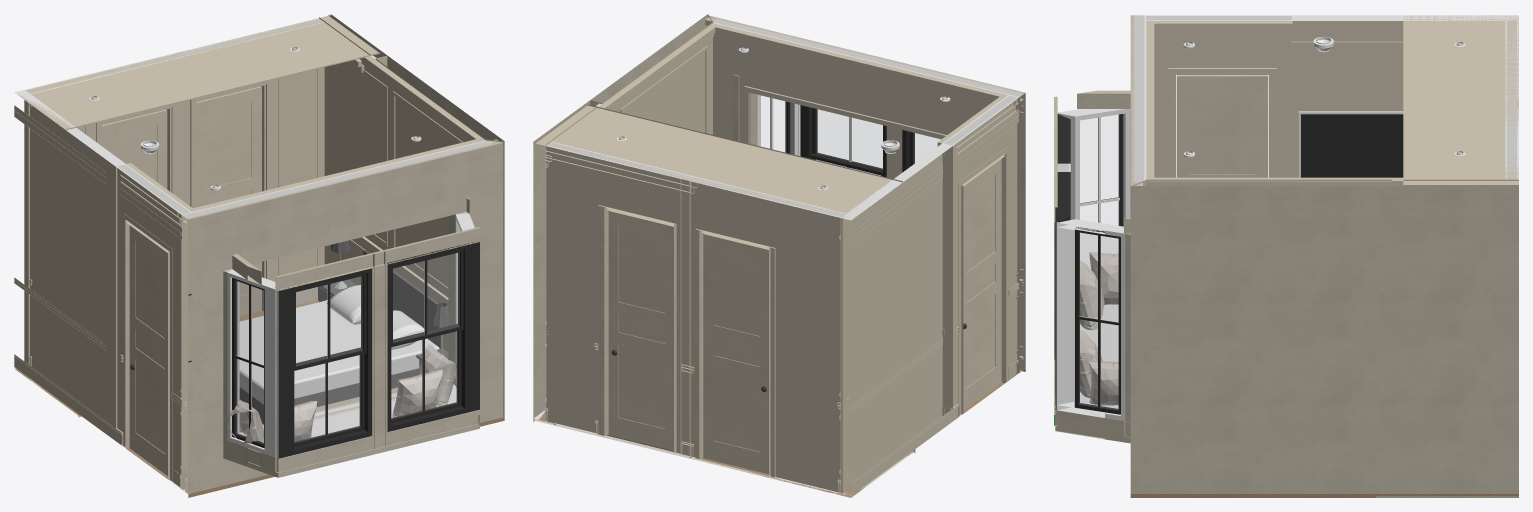
The model's file is loli-bedroom-28a444b4c423.glb.
The picture shows the model from 3 angles, left to right: view 1: azimuth 30°, elevation 25°; view 2: azimuth 150°, elevation 25°; view 3: azimuth 270°, elevation 25°; orthographic projection. The views are drawn at different scales.
Parts seen in each view (by area): view 1: loli-bedroom-93447d0fea18c81b, loli-bedroom-6a1144f4e43410bb, loli-bedroom-fd1c2425c72e98e4, loli-bedroom-4cda501b4aaed82b, loli-bedroom-2575515a05775d9e, loli-bedroom-4be2558270762b51, loli-bedroom-0e637d2be41161fb, loli-bedroom-cf6d22c5317ced0b, loli-bedroom-527014f532f46c8e, loli-bedroom-592bd9af2ed71797, loli-bedroom-eceff908bd344cec, loli-bedroom-75b75731e5e739a5 (+30 smaller); view 2: loli-bedroom-0e637d2be41161fb, loli-bedroom-6a1144f4e43410bb, loli-bedroom-93447d0fea18c81b, loli-bedroom-5b37b110dc0e2cdc, loli-bedroom-eceff908bd344cec, loli-bedroom-2575515a05775d9e, loli-bedroom-68d06b361ac47823, loli-bedroom-cf6d22c5317ced0b, loli-bedroom-592bd9af2ed71797, loli-bedroom-4cda501b4aaed82b, loli-bedroom-e6c2d716d4dbef87, loli-bedroom-319244b3406409d9 (+19 smaller); view 3: loli-bedroom-592bd9af2ed71797, loli-bedroom-319244b3406409d9, loli-bedroom-2575515a05775d9e, loli-bedroom-53e6a9e479527da3, loli-bedroom-6a1144f4e43410bb, loli-bedroom-cf6d22c5317ced0b, loli-bedroom-68d06b361ac47823, loli-bedroom-527014f532f46c8e, loli-bedroom-8a8ceecced350b7e, loli-bedroom-93447d0fea18c81b, loli-bedroom-d8b729a36612415b, loli-bedroom-ad11484878029c25 (+17 smaller).
Part boxes in pixels (x1,y1,x2,y2): loli-bedroom-93447d0fea18c81b: (181,140,502,494); loli-bedroom-6a1144f4e43410bb: (14,90,125,428); loli-bedroom-fd1c2425c72e98e4: (279,268,371,458); loli-bedroom-4cda501b4aaed82b: (386,241,479,431); loli-bedroom-2575515a05775d9e: (15,15,380,130); loli-bedroom-4be2558270762b51: (239,240,448,424); loli-bedroom-0e637d2be41161fb: (24,18,324,364); loli-bedroom-cf6d22c5317ced0b: (129,225,167,475); loli-bedroom-527014f532f46c8e: (227,270,278,458); loli-bedroom-592bd9af2ed71797: (375,55,504,416); loli-bedroom-eceff908bd344cec: (196,86,261,315); loli-bedroom-75b75731e5e739a5: (277,263,478,477); loli-bedroom-0e637d2be41161fb: (545,141,847,493); loli-bedroom-6a1144f4e43410bb: (841,143,952,495); loli-bedroom-93447d0fea18c81b: (709,15,1025,372); loli-bedroom-5b37b110dc0e2cdc: (703,233,768,474); loli-bedroom-eceff908bd344cec: (608,210,673,450); loli-bedroom-2575515a05775d9e: (535,104,902,220); loli-bedroom-68d06b361ac47823: (942,95,1018,420); loli-bedroom-cf6d22c5317ced0b: (963,159,1001,410); loli-bedroom-592bd9af2ed71797: (590,14,712,134); loli-bedroom-4cda501b4aaed82b: (800,105,886,177); loli-bedroom-e6c2d716d4dbef87: (713,23,1017,110); loli-bedroom-319244b3406409d9: (533,100,601,419); loli-bedroom-592bd9af2ed71797: (1130,179,1392,493); loli-bedroom-319244b3406409d9: (1392,179,1518,493); loli-bedroom-2575515a05775d9e: (1403,15,1518,186); loli-bedroom-53e6a9e479527da3: (1056,219,1125,421); loli-bedroom-6a1144f4e43410bb: (1292,15,1518,177); loli-bedroom-cf6d22c5317ced0b: (1176,75,1268,177); loli-bedroom-68d06b361ac47823: (1146,15,1291,177); loli-bedroom-527014f532f46c8e: (1057,109,1130,269); loli-bedroom-8a8ceecced350b7e: (1298,111,1403,177); loli-bedroom-93447d0fea18c81b: (1130,15,1146,185); loli-bedroom-d8b729a36612415b: (1055,234,1130,443); loli-bedroom-ad11484878029c25: (1147,177,1391,186).
Size of the model in its own units: 3.62 by 3.05 by 4.12.
Materials: 32 (5 with a texture image).
